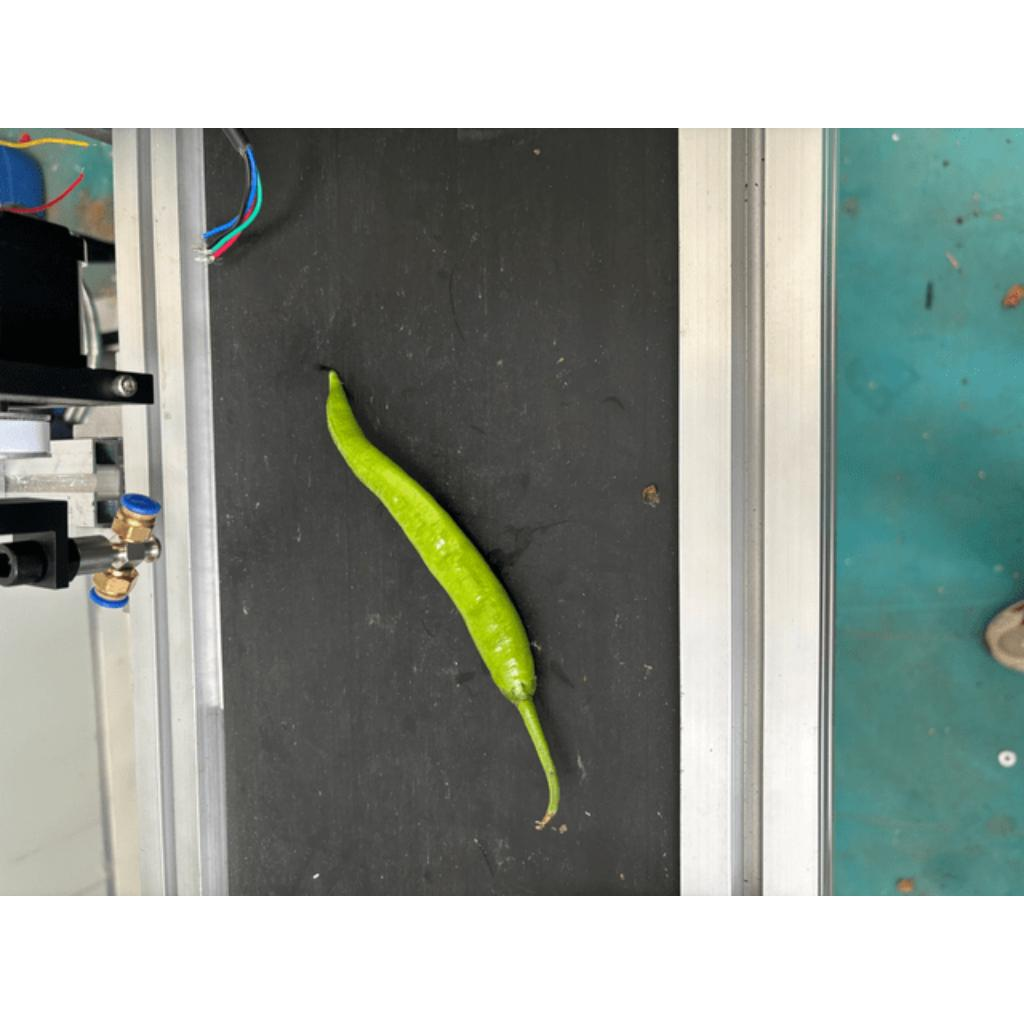chili: (322, 366, 538, 707)
